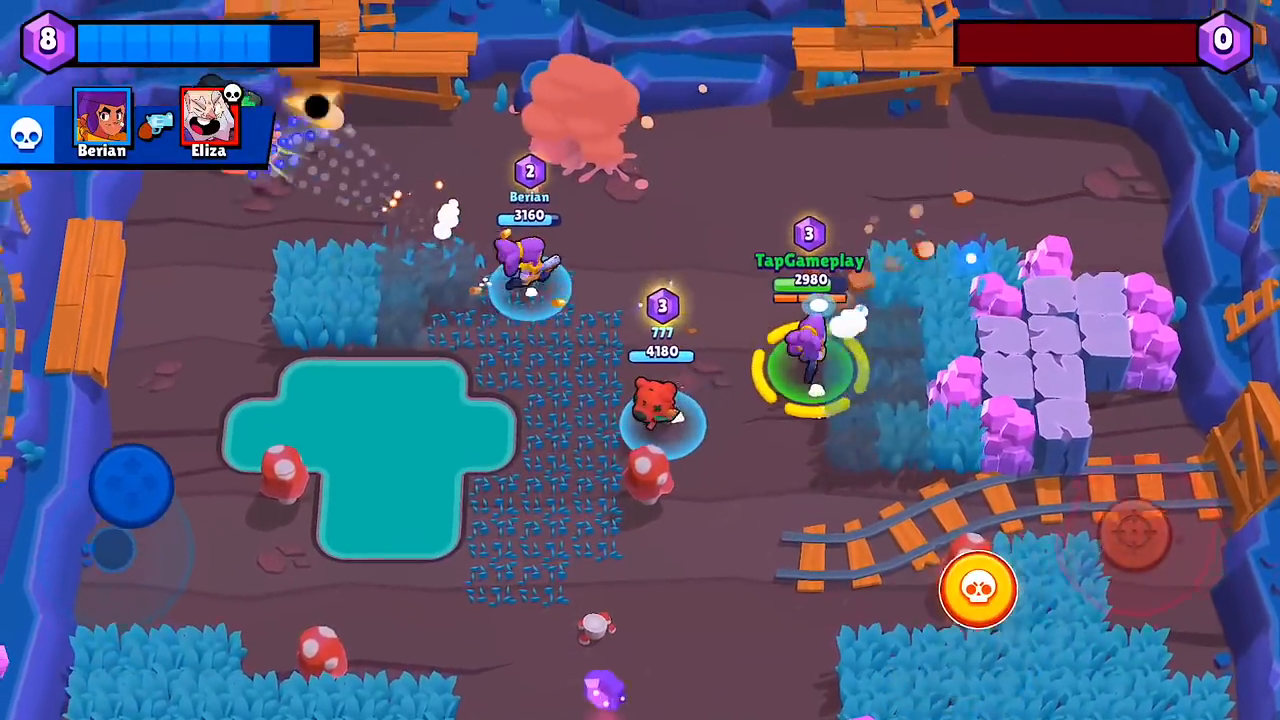move_stick: (92, 444, 171, 544)
